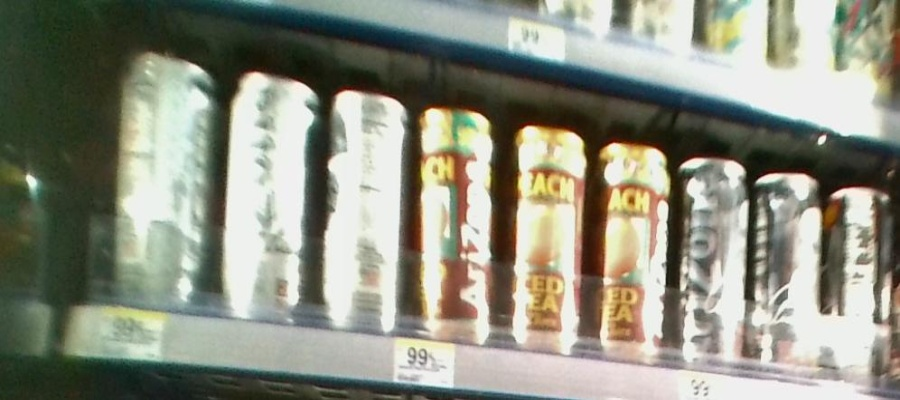bottle: (110, 41, 218, 313), (218, 57, 324, 320), (505, 106, 589, 367), (328, 69, 407, 341), (416, 79, 497, 344), (594, 134, 672, 361), (679, 146, 750, 370), (828, 166, 895, 385), (755, 159, 826, 362)
